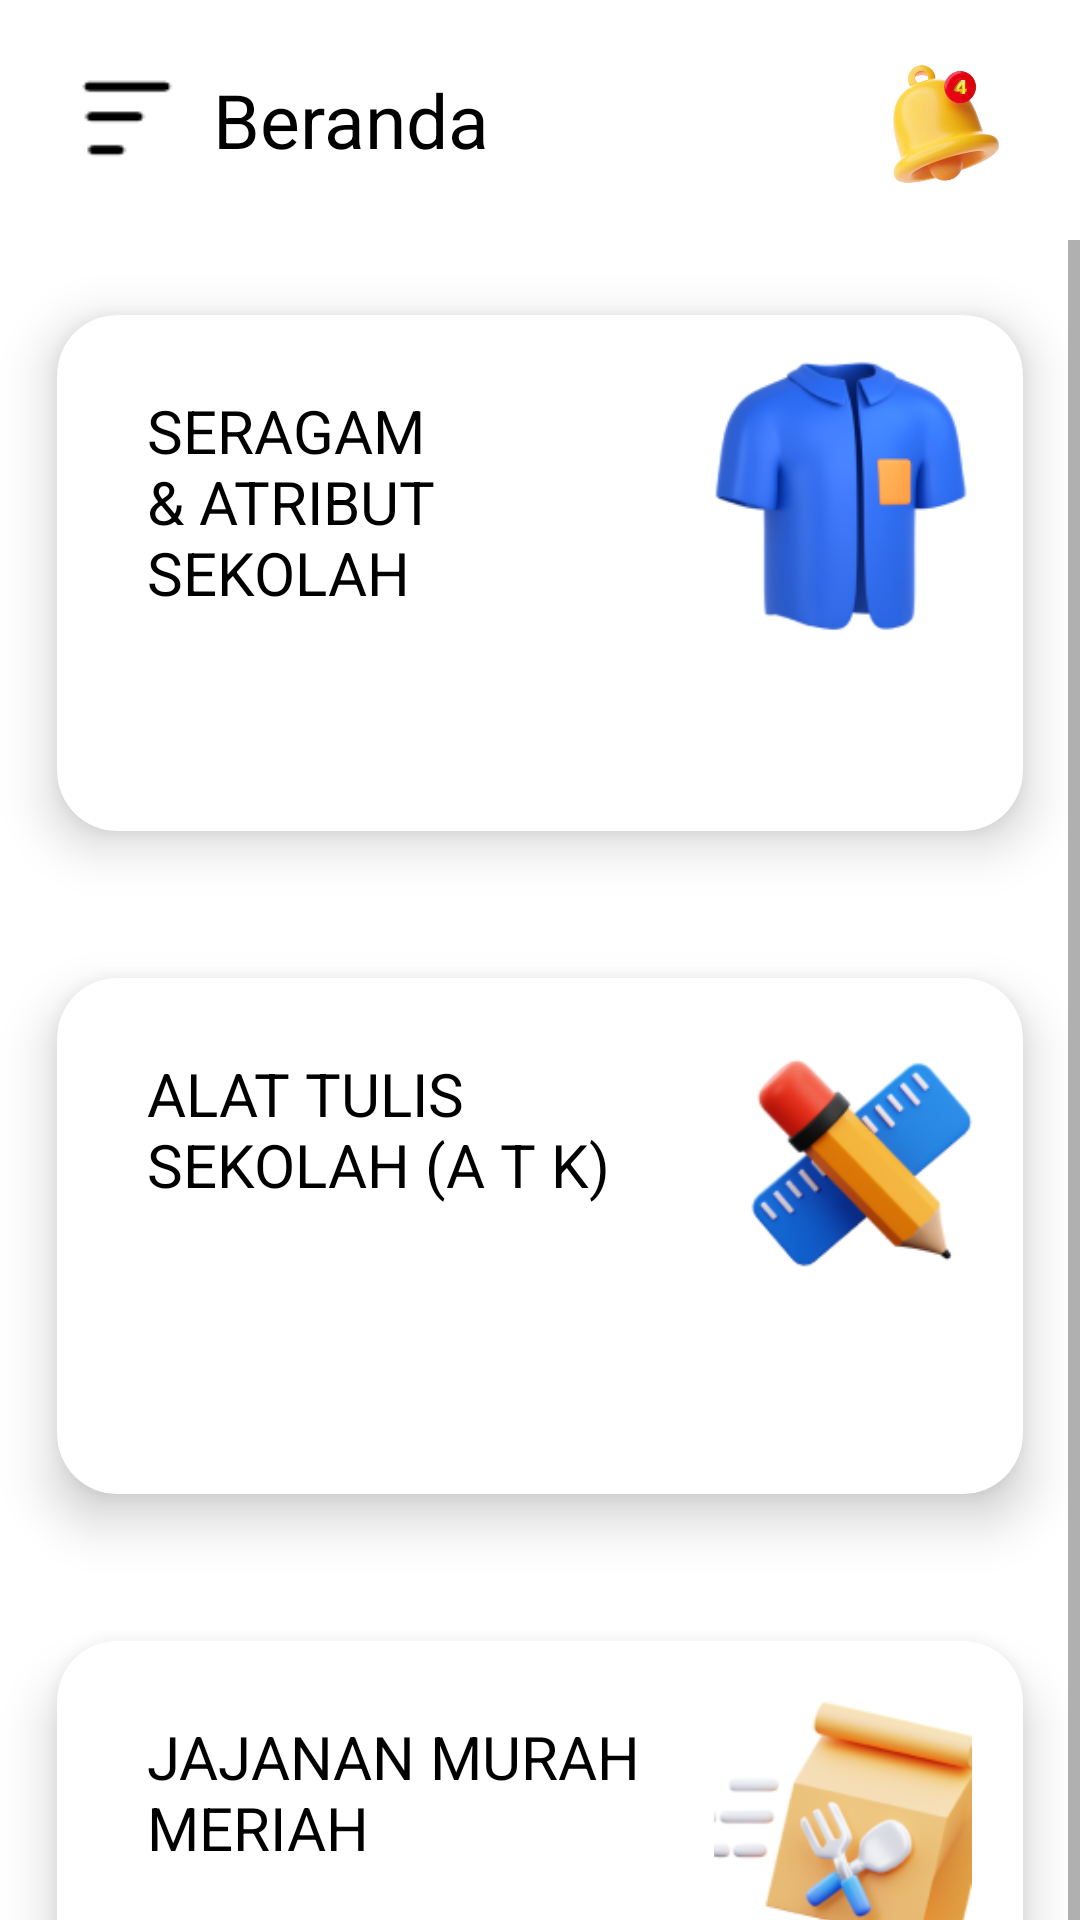

Point at icon controls on the screen. Image size 1080px x 1920px, points as (x,y).
atk: (861,1163)
menu: (127,118)
pakaian: (841,496)
